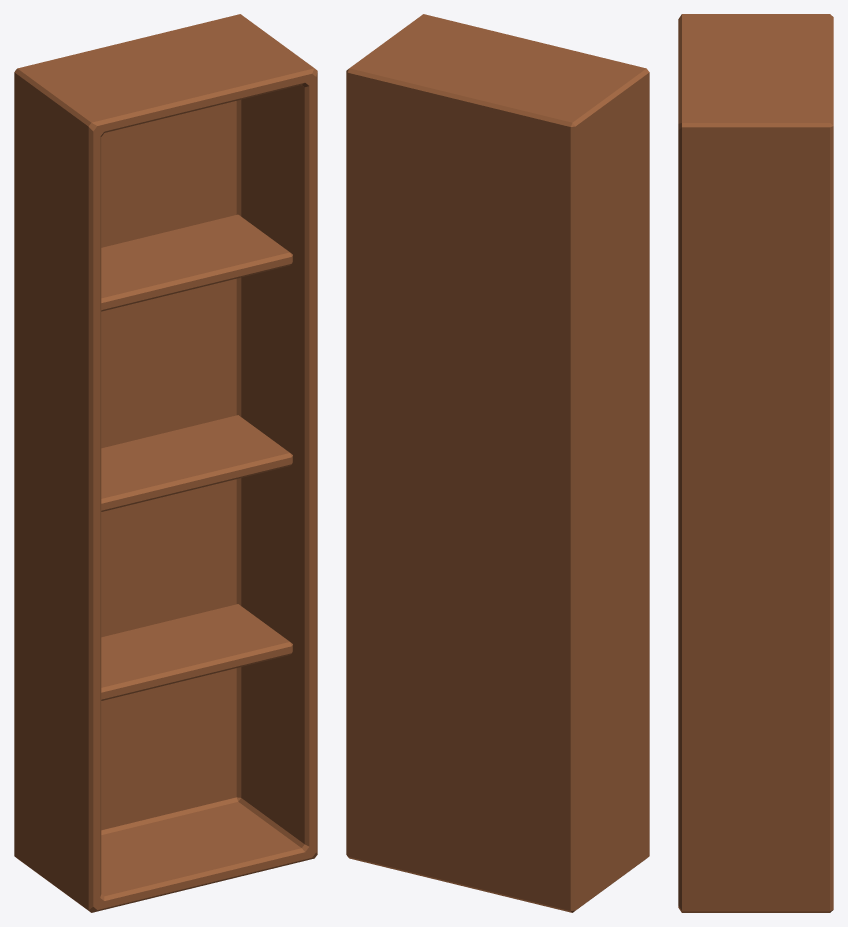
Rendered from Shelf C.glb.
3 renders of one model, left to right at view 1: azimuth 30°, elevation 25°; view 2: azimuth 150°, elevation 25°; view 3: azimuth 270°, elevation 25°, orthographic.
Visible parts, largest first — view 1: Shelf C; view 2: Shelf C; view 3: Shelf C.
Boxes of the visible parts, box(x1,y1,x2,y2) form: Shelf C: box(14, 14, 317, 912); Shelf C: box(346, 14, 649, 912); Shelf C: box(678, 14, 833, 912).
Bounding box in the file's own units: 0.6527 × 2.15 × 0.3829.
